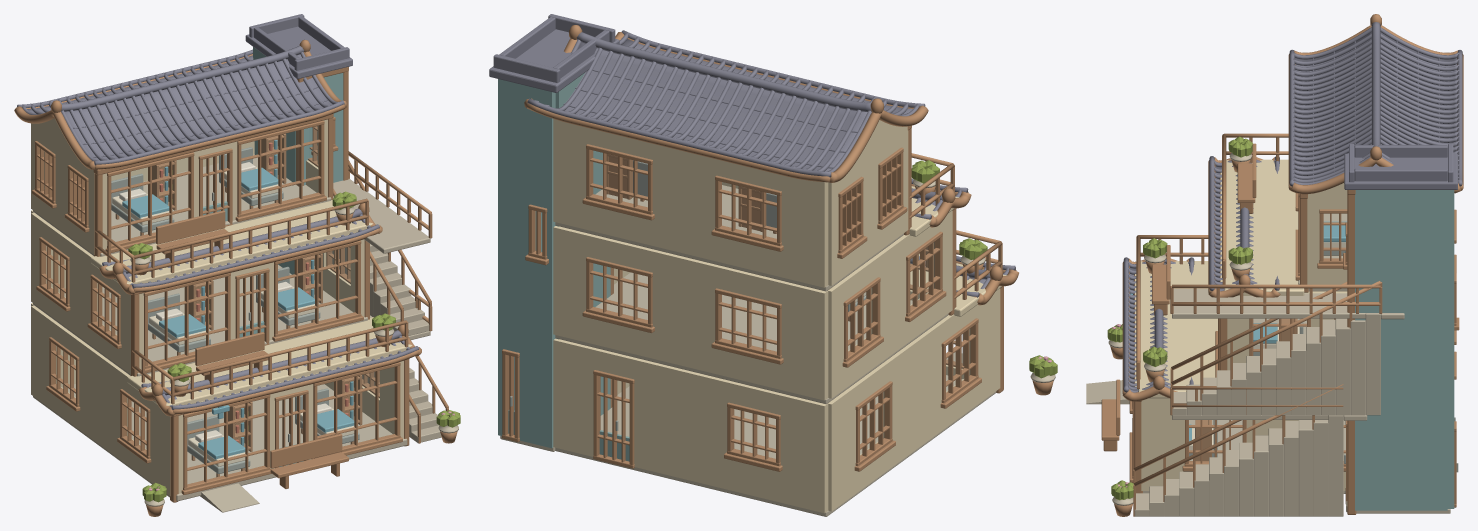
3 renders of one model, left to right at view 1: azimuth 30°, elevation 25°; view 2: azimuth 150°, elevation 25°; view 3: azimuth 270°, elevation 25°, orthographic. The views are drawn at different scales.
Parts seen in each view (by area): view 1: SM_24_04_门窗楼梯, SM_24_01_建筑墙体, SM_24_02_曲面屋顶, SM_24_06_景观设施, SM_24_03_木构回廊, SM_24_05_景观植物; view 2: SM_24_01_建筑墙体, SM_24_02_曲面屋顶, SM_24_04_门窗楼梯, SM_24_06_景观设施, SM_24_05_景观植物, SM_24_03_木构回廊; view 3: SM_24_01_建筑墙体, SM_24_04_门窗楼梯, SM_24_02_曲面屋顶, SM_24_06_景观设施, SM_24_05_景观植物, SM_24_03_木构回廊.
Boxes of the visible parts, x1=… form: SM_24_04_门窗楼梯: x1=32, y1=117, x2=448, y2=512; SM_24_01_建筑墙体: x1=31, y1=47, x2=412, y2=501; SM_24_02_曲面屋顶: x1=14, y1=14, x2=421, y2=416; SM_24_06_景观设施: x1=111, y1=133, x2=362, y2=488; SM_24_03_木构回廊: x1=93, y1=67, x2=409, y2=502; SM_24_05_景观植物: x1=128, y1=191, x2=460, y2=516; SM_24_01_建筑墙体: x1=498, y1=73, x2=1007, y2=516; SM_24_02_曲面屋顶: x1=489, y1=14, x2=1018, y2=305; SM_24_04_门窗楼梯: x1=502, y1=144, x2=1002, y2=471; SM_24_06_景观设施: x1=606, y1=154, x2=928, y2=321; SM_24_05_景观植物: x1=911, y1=160, x2=1057, y2=395; SM_24_03_木构回廊: x1=610, y1=125, x2=1003, y2=407; SM_24_01_建筑墙体: x1=1135, y1=159, x2=1454, y2=513; SM_24_04_门窗楼梯: x1=1086, y1=133, x2=1459, y2=516; SM_24_02_曲面屋顶: x1=1122, y1=14, x2=1463, y2=401; SM_24_06_景观设施: x1=1101, y1=143, x2=1346, y2=460; SM_24_05_景观植物: x1=1107, y1=136, x2=1252, y2=516; SM_24_03_木构回廊: x1=1133, y1=173, x2=1356, y2=514.
Size of the model in its own units: 10.72 by 10.44 by 10.12.
